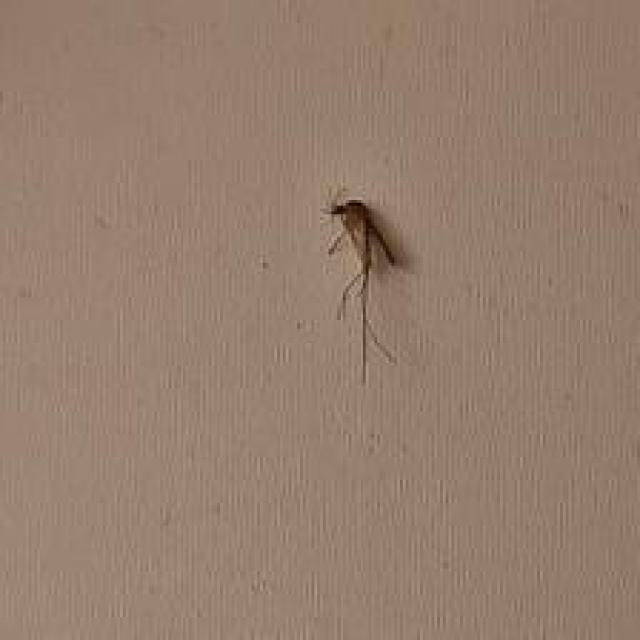Culex: (322, 196, 398, 384)
